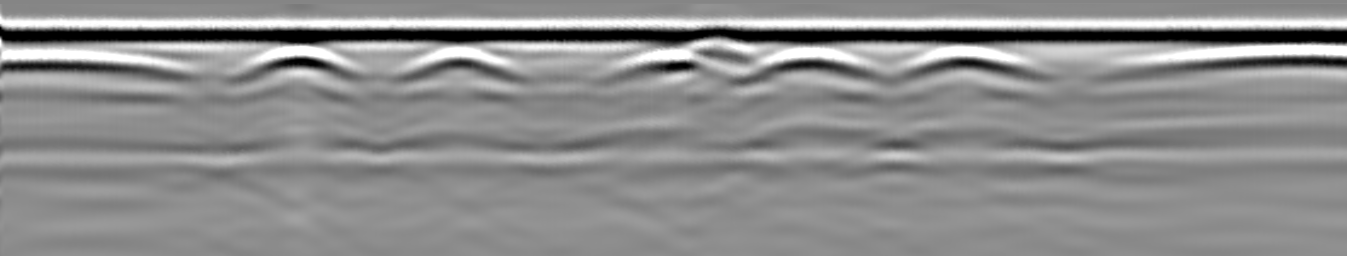pipe: (670, 26, 767, 54)
steel: (1110, 47, 1347, 73), (2, 49, 174, 77), (900, 46, 1042, 76), (237, 46, 363, 74), (404, 47, 525, 76), (759, 49, 883, 77), (614, 50, 701, 73)
